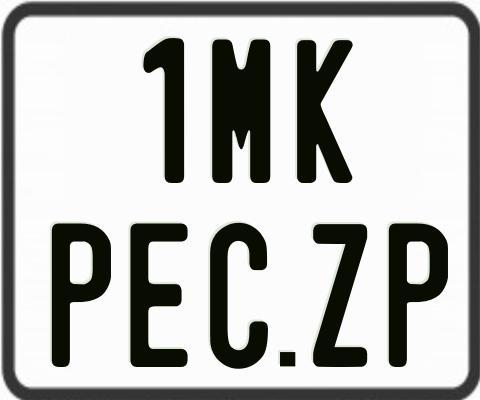1: (142, 37, 183, 188)
C: (209, 222, 270, 368)
E: (127, 221, 185, 368)
K: (297, 38, 355, 181)
M: (212, 37, 275, 183)
P: (386, 222, 450, 367), (52, 220, 112, 369)
Z: (313, 224, 367, 369)
